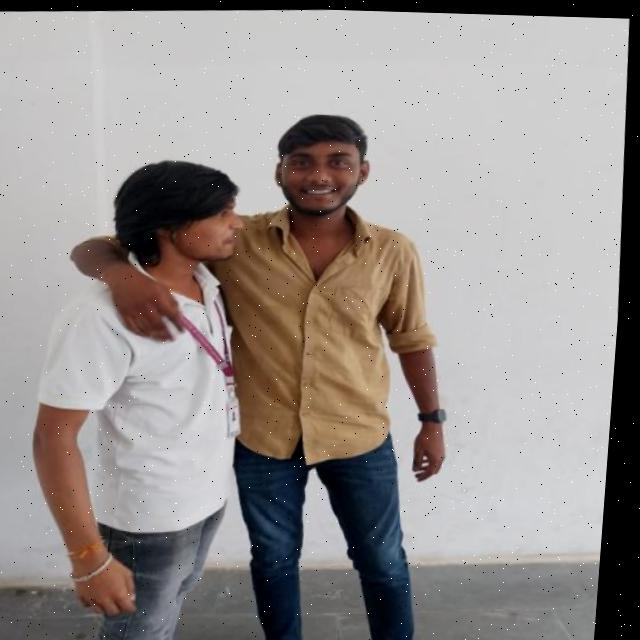id_card: (168, 299, 252, 439)
